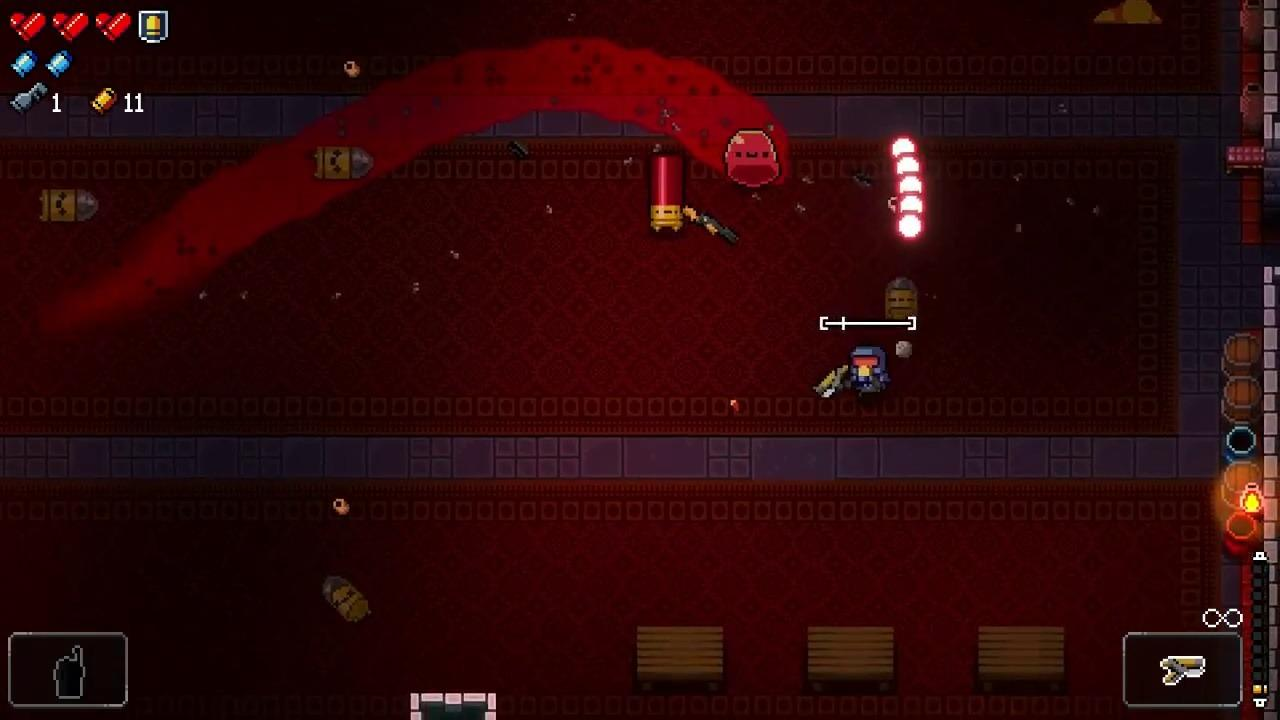blobulon_l: (722, 129, 782, 189)
bullet: (896, 212, 926, 240), (894, 154, 926, 178), (898, 173, 927, 199), (889, 136, 916, 162), (899, 193, 926, 219)
dead_apprentice_gunjurer: (1095, 0, 1164, 23)
dead_bullet_kin: (322, 575, 371, 625), (315, 144, 376, 179), (42, 190, 101, 222), (885, 276, 919, 324)
player: (853, 349, 888, 397)
red_shotgun_kin: (651, 151, 686, 234)
table: (637, 628, 723, 692), (808, 628, 895, 691), (978, 627, 1063, 689)
